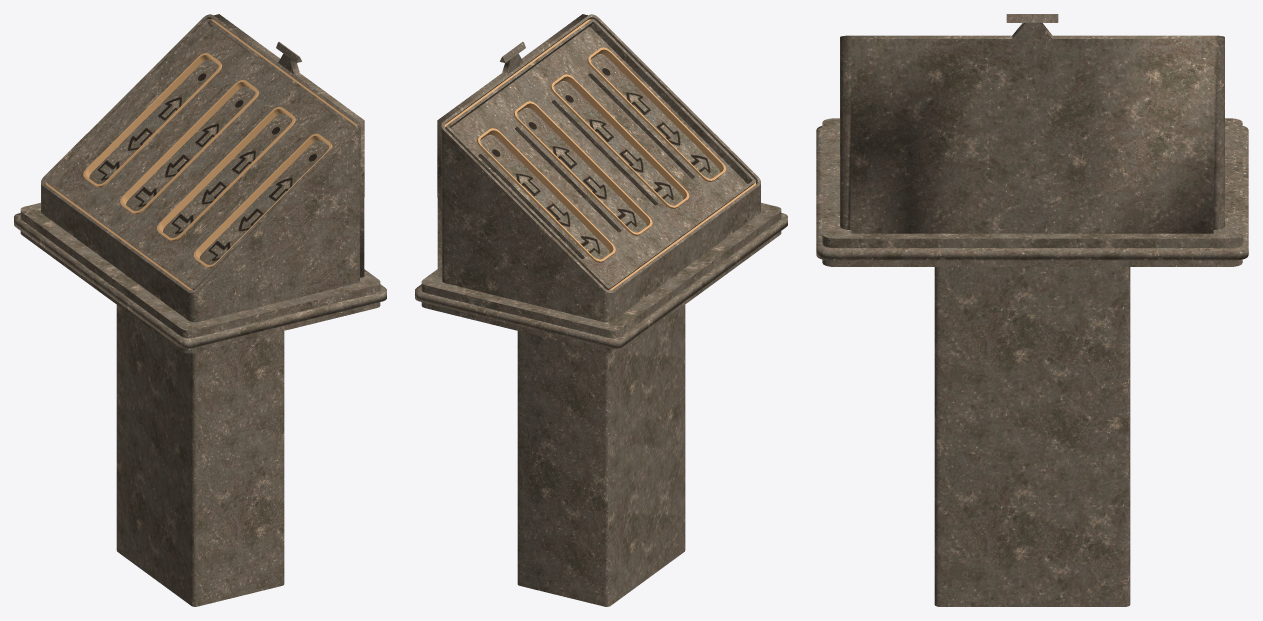
File: mdl_franch_CondorInterface_Top.gltf
The picture shows the model from 3 angles, left to right: view 1: azimuth 30°, elevation 25°; view 2: azimuth 150°, elevation 25°; view 3: azimuth 270°, elevation 25°; orthographic projection. The views are drawn at different scales.
Parts seen in each view (by area): view 1: top, symbols, goldedge2, goldedge2.001, goldedge2.002, goldedge2.003, goldedge; view 2: top, symbols, goldedge2.003, goldedge2, goldedge2.002, goldedge2.001, goldedge; view 3: top.
Boxes of the visible parts, left/top/right/bottom form: top: left=14, top=14, right=386, bottom=606; symbols: left=89, top=59, right=328, bottom=264; goldedge2: left=83, top=53, right=221, bottom=187; goldedge2.001: left=120, top=80, right=258, bottom=214; goldedge2.002: left=157, top=106, right=295, bottom=241; goldedge2.003: left=193, top=133, right=332, bottom=268; goldedge: left=46, top=19, right=357, bottom=290; top: left=415, top=14, right=787, bottom=606; symbols: left=480, top=54, right=720, bottom=259; goldedge2.003: left=587, top=47, right=725, bottom=181; goldedge2: left=477, top=128, right=615, bottom=262; goldedge2.002: left=550, top=74, right=689, bottom=208; goldedge2.001: left=513, top=101, right=652, bottom=235; goldedge: left=444, top=19, right=755, bottom=290; top: left=816, top=14, right=1248, bottom=606.
Bounding box in the file's own units: 1.97 × 4.51 × 2.85.
3 materials, 2 textured.
